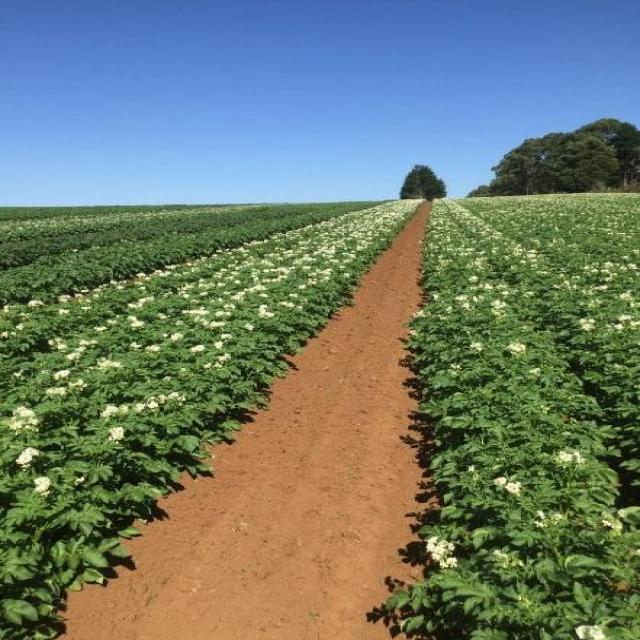row: (37, 204, 430, 637)
